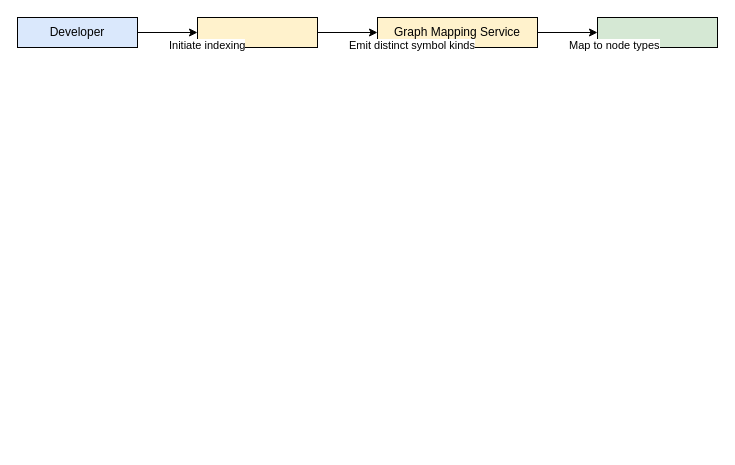
The diagram is 735 pixels wide and 465 high, and some of its shapes have lost their labels. Each missing label, with the centre of its shape:
"KB Graph" belongs at pixel 657 32.
"Parser Layer" belongs at pixel 257 32.
